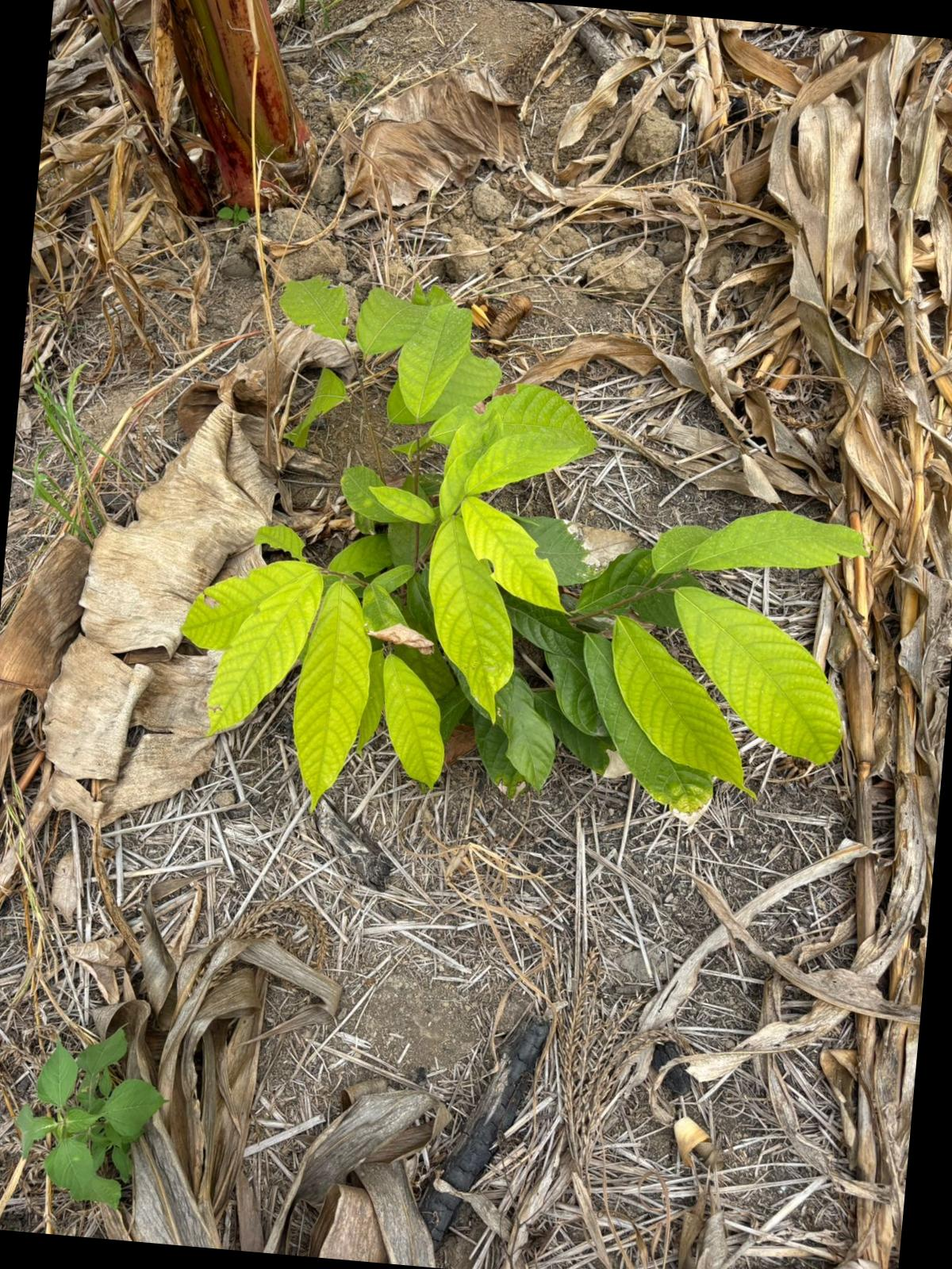Nitrogeno: (676, 588, 841, 764), (210, 567, 323, 731), (429, 513, 513, 722), (294, 583, 371, 804)
